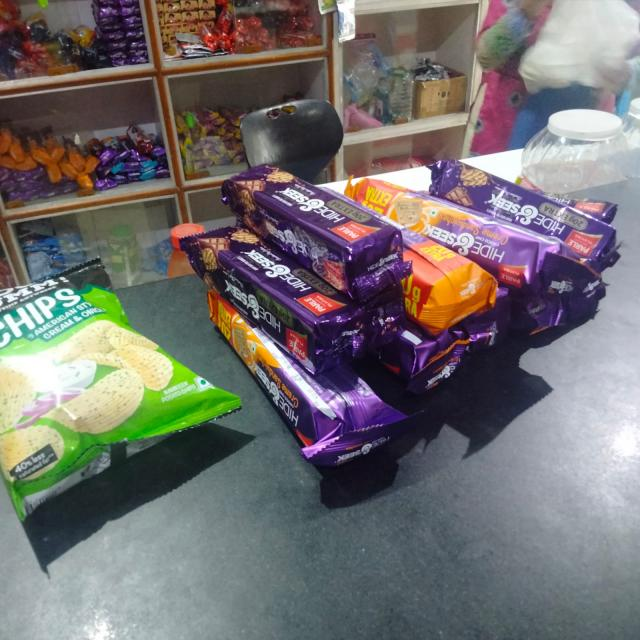Others: (191, 142, 622, 450), (0, 252, 171, 488)
